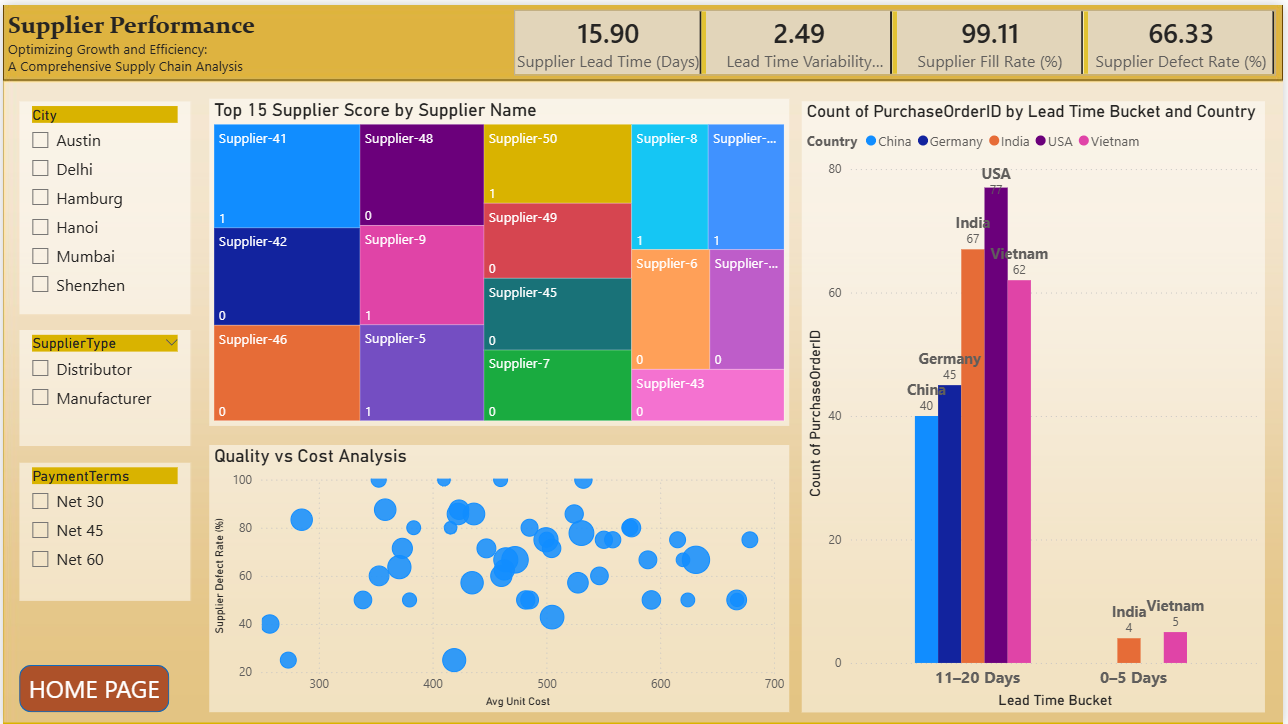

What the dashboard file says about the page in this screenshot:
{"tool":"powerbi","page":{"name":"Supplier Performance","canvas":[1280,720],"ordinal":3},"visuals":[{"type":"shape","box":[15.7,660,150,47.1],"z":0},{"type":"textbox","box":[0,0,1280,75],"z":1000},{"type":"cardVisual","fields":{"Data":["Dim_Supplier.Supplier Lead Time (Days)","DelayReason.Lead Time Variability (Days)","DelayReason.Supplier Fill Rate (%)","DelayReason.Supplier Defect Rate (%)"]},"box":[505.7,0,774.3,75.7],"z":2000},{"type":"scatterChart","title":"Quality vs Cost Analysis","fields":{"X":["DelayReason.Avg Unit Cost"],"Y":["DelayReason.Supplier Defect Rate (%)"],"Size":["Sum(Fact_PurchaseOrders.OrderedQty)"],"Category":["Dim_Supplier.SupplierName"]},"box":[205.7,440,580,267.1],"z":3000},{"type":"treemap","title":"Top 15 Supplier Score by Supplier Name","fields":{"Values":["DelayReason.Supplier Score"],"Group":["Dim_Supplier.SupplierName"],"Details":["Dim_Supplier.IsPreferred"]},"box":[205.7,94.3,580,327.1],"z":4000},{"type":"slicer","fields":{"Values":["Dim_Supplier.City"]},"box":[16.2,96.2,171.2,212.5],"z":5000},{"type":"slicer","fields":{"Values":["Dim_Supplier.SupplierType"]},"box":[16.2,325,171.2,116.2],"z":6000},{"type":"clusteredColumnChart","fields":{"Category":["Dim_Supplier.Lead Time Bucket"],"Series":["Dim_Supplier.Country"],"Y":["CountNonNull(Fact_PurchaseOrders.PurchaseOrderID)"]},"box":[798.6,95.7,462.9,611.4],"z":7000},{"type":"slicer","fields":{"Values":["Dim_Supplier.PaymentTerms"]},"box":[15.7,457.1,171.4,138.6],"z":8000}]}

Visuals, with their boxes in screenshot pixels (x1, y1, x2, y2), scaled from the page's 1280x720 canvas onto the 1288x724 screenshot:
shape: x1=16 y1=664 x2=167 y2=711
textbox: x1=0 y1=0 x2=1287 y2=75
cardVisual - Dim_Supplier.Supplier Lead Time (Days) x DelayReason.Lead Time Variability (Days): x1=509 y1=0 x2=1287 y2=76
"Quality vs Cost Analysis" scatterChart: x1=207 y1=442 x2=791 y2=711
"Top 15 Supplier Score by Supplier Name" treemap: x1=207 y1=95 x2=791 y2=424
slicer - Dim_Supplier.City: x1=16 y1=97 x2=189 y2=310
slicer - Dim_Supplier.SupplierType: x1=16 y1=327 x2=189 y2=444
clusteredColumnChart - Dim_Supplier.Lead Time Bucket x Dim_Supplier.Country: x1=804 y1=96 x2=1269 y2=711
slicer - Dim_Supplier.PaymentTerms: x1=16 y1=460 x2=188 y2=599
